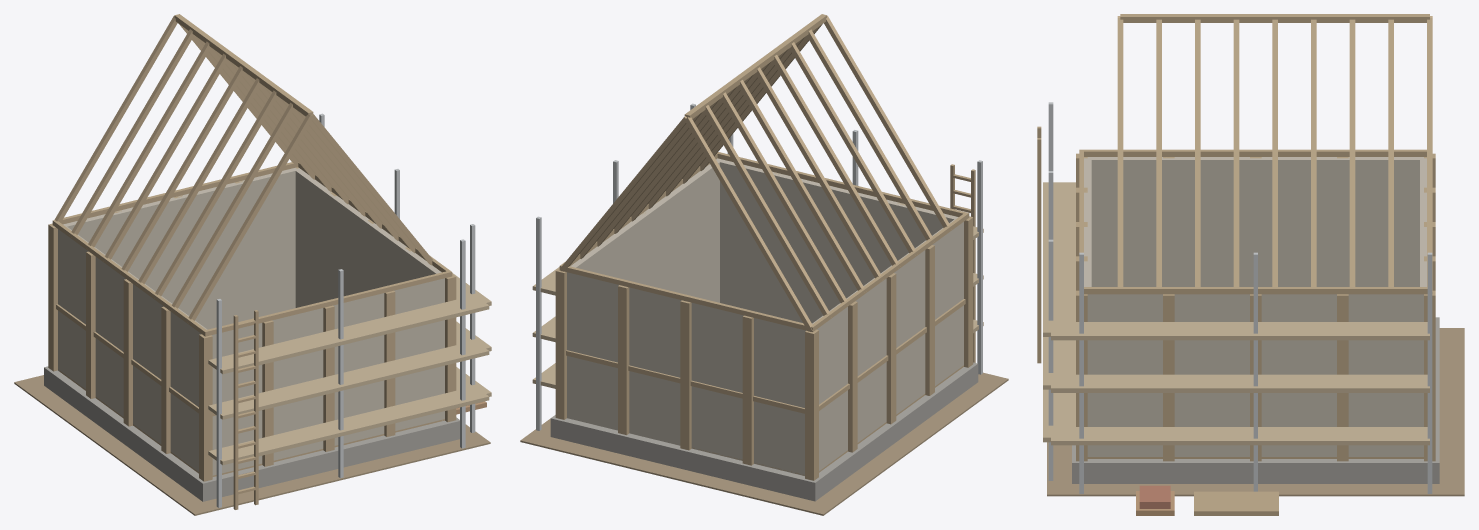
The model's file is winery_site_9.glb.
3 views of the same model, side by side, from view 1: azimuth 30°, elevation 25°; view 2: azimuth 150°, elevation 25°; view 3: azimuth 270°, elevation 25° (orthographic). The views are drawn at different scales.
Parts seen in each view (by area): view 1: body; view 2: body; view 3: body.
Boxes of the visible parts, left/top/right/bottom form: body: left=14, top=14, right=491, bottom=515; body: left=520, top=14, right=1008, bottom=515; body: left=1037, top=14, right=1464, bottom=515.
Size of the model in its own units: 2.28 by 2.27 by 2.21.
